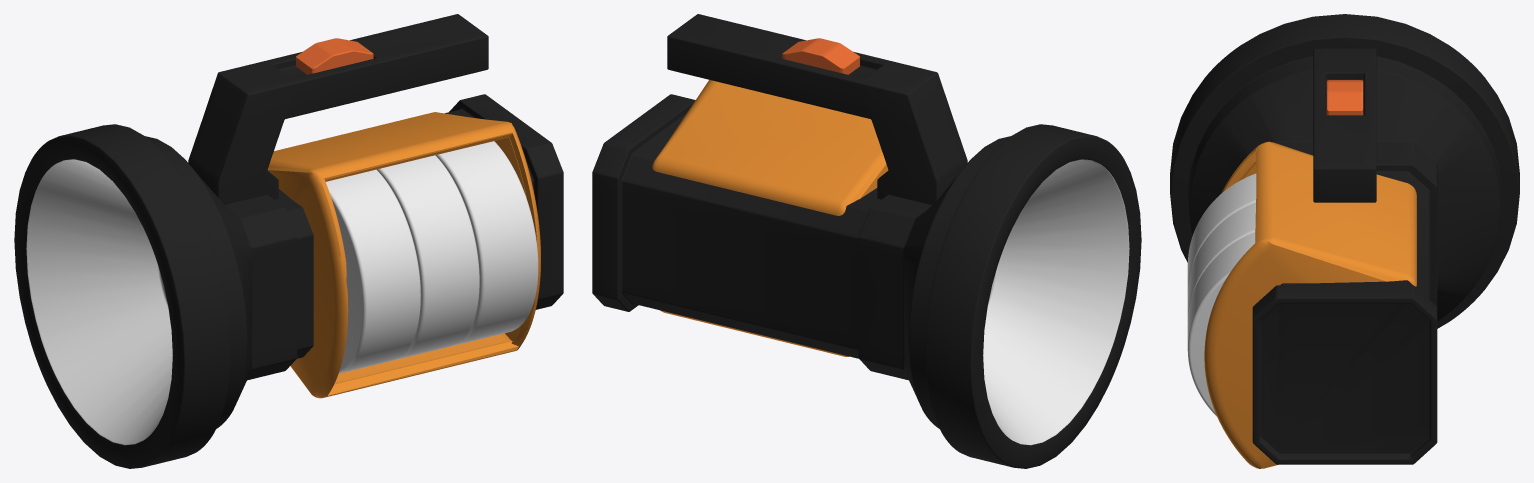
Rendered from FlashLight.fbx.
3 renders of one model, left to right at view 1: azimuth 30°, elevation 25°; view 2: azimuth 150°, elevation 25°; view 3: azimuth 270°, elevation 25°, orthographic. The views are drawn at different scales.
Visible parts, largest first — view 1: Cube.001, Cylinder, Cube, Spin, Spin.001, Spin.002, Switch; view 2: Cube.001, Cube, Cylinder, Switch; view 3: Cube.001, Cylinder, Cube, Spin.002, Spin, Spin.001, Switch.
Part boxes in pixels (box(x1,y1,x2,y2)): Cube.001: box(14, 94, 563, 468); Cylinder: box(267, 112, 540, 398); Cube: box(188, 14, 488, 204); Spin: box(326, 169, 420, 373); Spin.001: box(376, 155, 479, 359); Spin.002: box(435, 141, 538, 345); Switch: box(296, 38, 373, 74); Cube.001: box(592, 94, 1141, 468); Cube: box(667, 14, 967, 204); Cylinder: box(652, 80, 888, 356); Switch: box(782, 38, 859, 74); Cube.001: box(1170, 14, 1519, 464); Cylinder: box(1204, 141, 1416, 468); Cube: box(1313, 48, 1376, 202); Spin.002: box(1187, 232, 1255, 416); Spin: box(1187, 173, 1256, 292); Spin.001: box(1187, 203, 1255, 321); Switch: box(1326, 80, 1363, 115).
Bounding box in the file's own units: 429 × 344 × 301.
